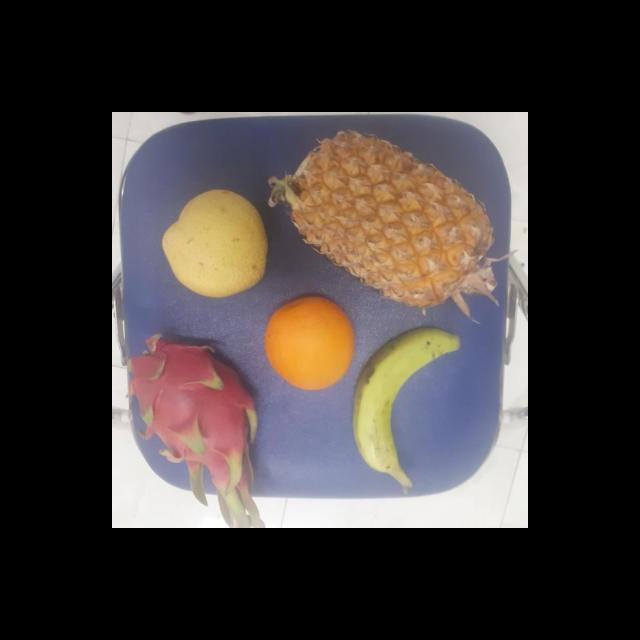banana: (352, 329, 463, 480)
orange: (262, 297, 355, 390)
pear: (159, 187, 274, 297)
pineapple: (282, 128, 506, 306)
pitaya: (130, 332, 268, 482)
